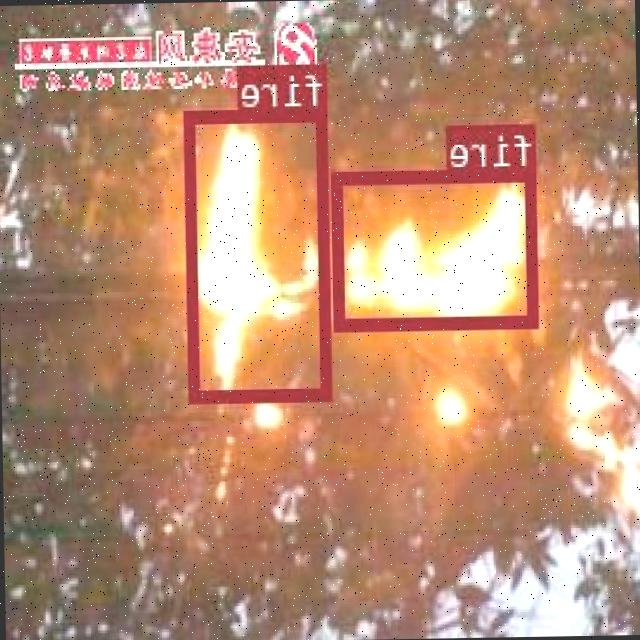fire: (188, 107, 334, 401), (333, 166, 540, 327)
